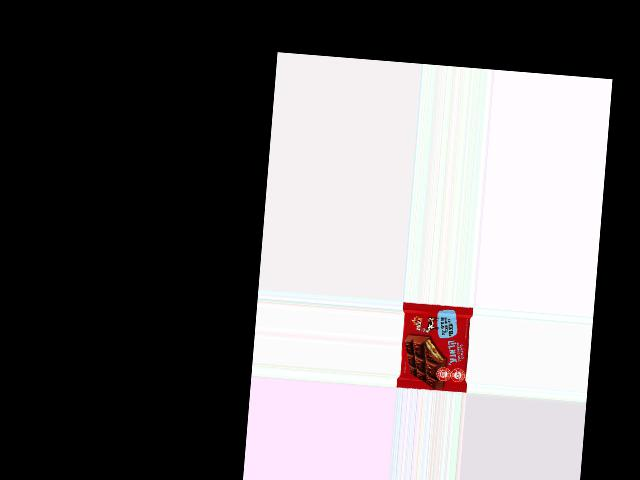chocolate: (397, 305, 473, 391)
